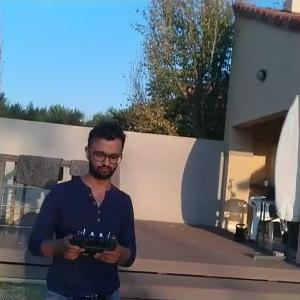follow: (22, 113, 141, 298)
